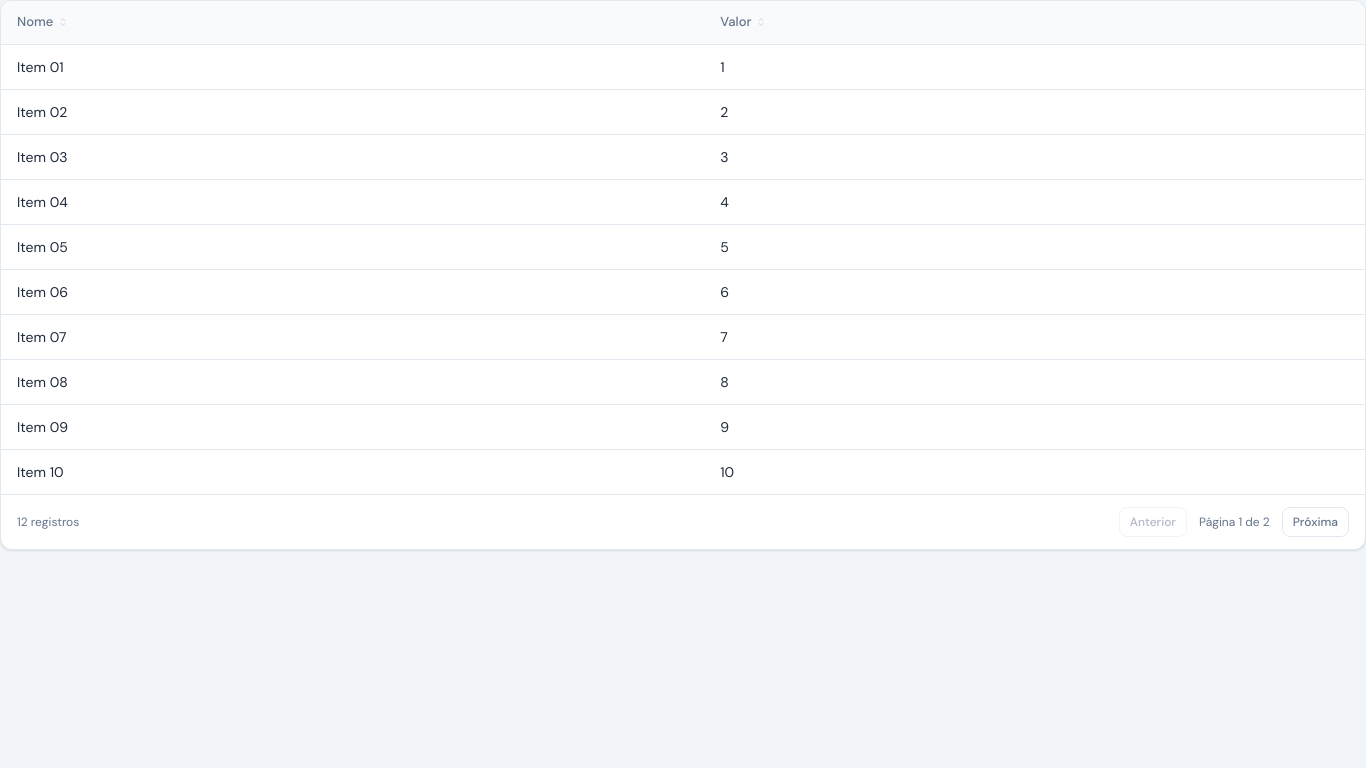
Test case: DataTable — paginação com pageSize › navega com Próxima/Anterior e desabilita nos limites
Click the button with test id "data-table-next".
click(1315, 522)  # box left=1282, top=507, right=1349, bottom=537
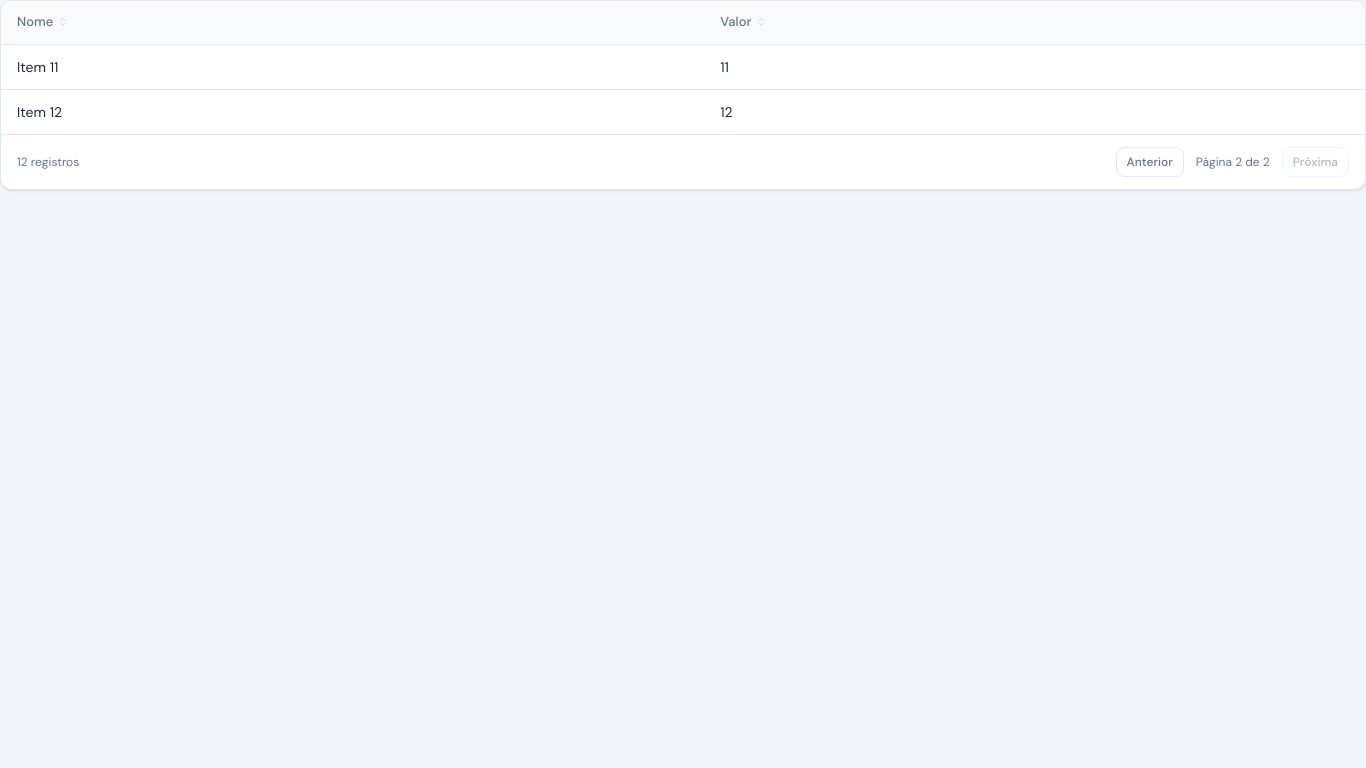
Expected: the text "Item 11" is shown, left=1, top=44, right=704, bottom=89
Expected: the text "Item 01" is gone
Expected: the text with test id "data-table-page-info" reads "Página 2 de 2", left=1196, top=153, right=1270, bottom=171
Click the button with test id "data-table-prev".
click(1150, 162)  # box left=1116, top=147, right=1184, bottom=177
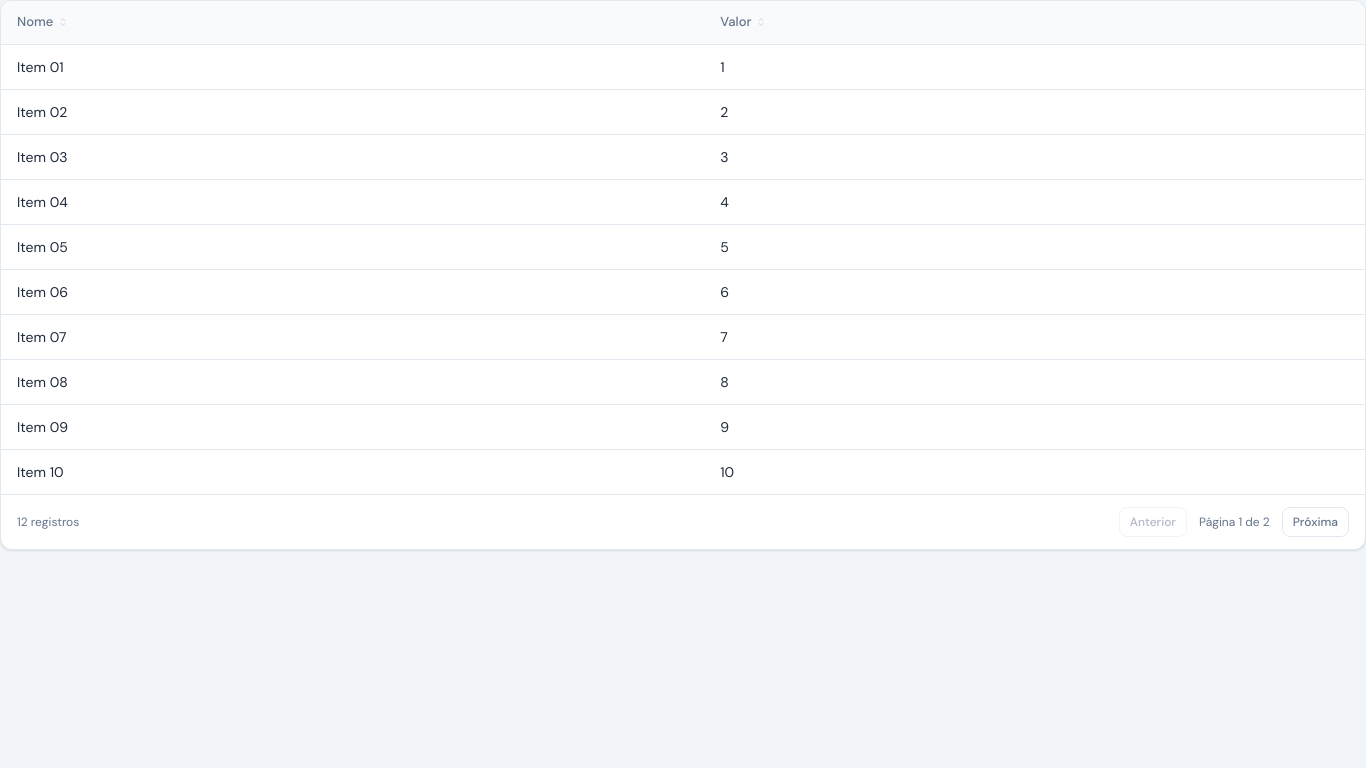
Expected: the text "Item 01" is shown, left=1, top=44, right=704, bottom=89
Expected: the text with test id "data-table-page-info" reads "Página 1 de 2", left=1199, top=513, right=1270, bottom=531
